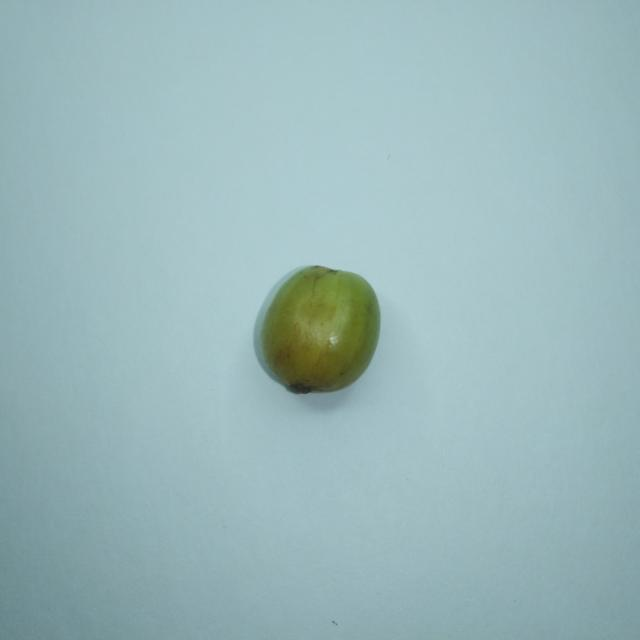Sano: (254, 265, 379, 393)
